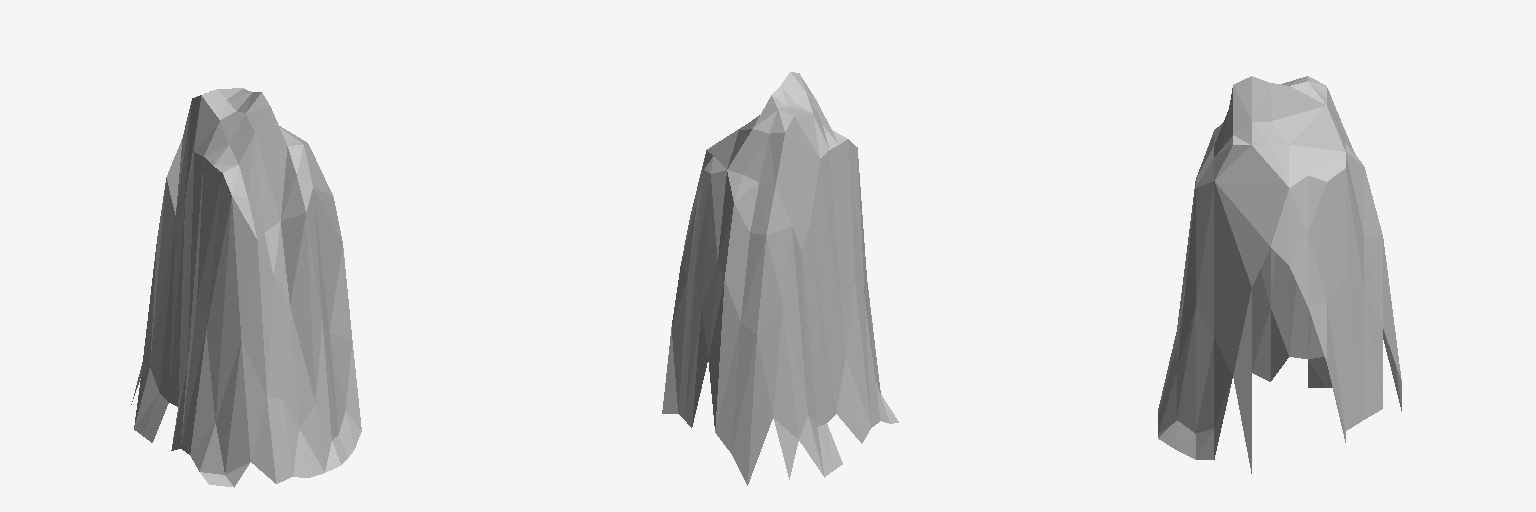
The model's file is tree_54.obj.
3 views of the same model, side by side, from view 1: azimuth 30°, elevation 25°; view 2: azimuth 150°, elevation 25°; view 3: azimuth 270°, elevation 25° (orthographic).
Visible parts, largest first — view 1: tree_54.001; view 2: tree_54.001; view 3: tree_54.001.
Boxes of the visible parts, <box> form: tree_54.001: <box>131,88,361,487</box>; tree_54.001: <box>662,72,898,485</box>; tree_54.001: <box>1158,76,1401,473</box>.
Size of the model in its own units: 11 by 20.72 by 13.